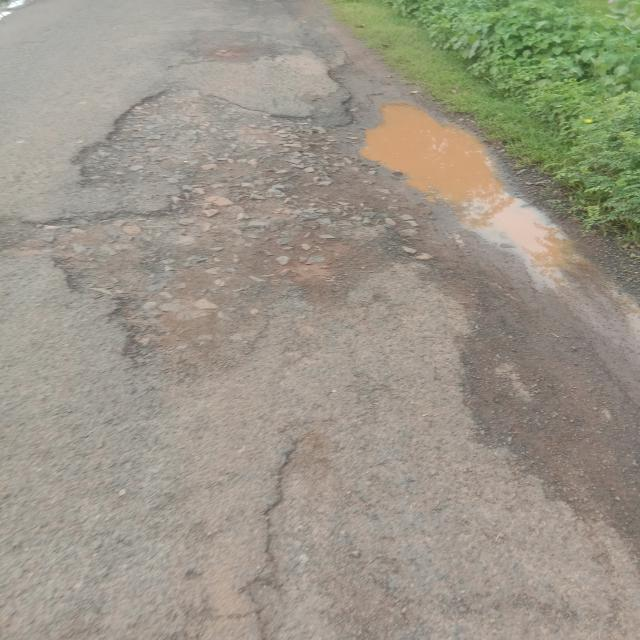potholes: (3, 83, 378, 364), (349, 91, 640, 346)
